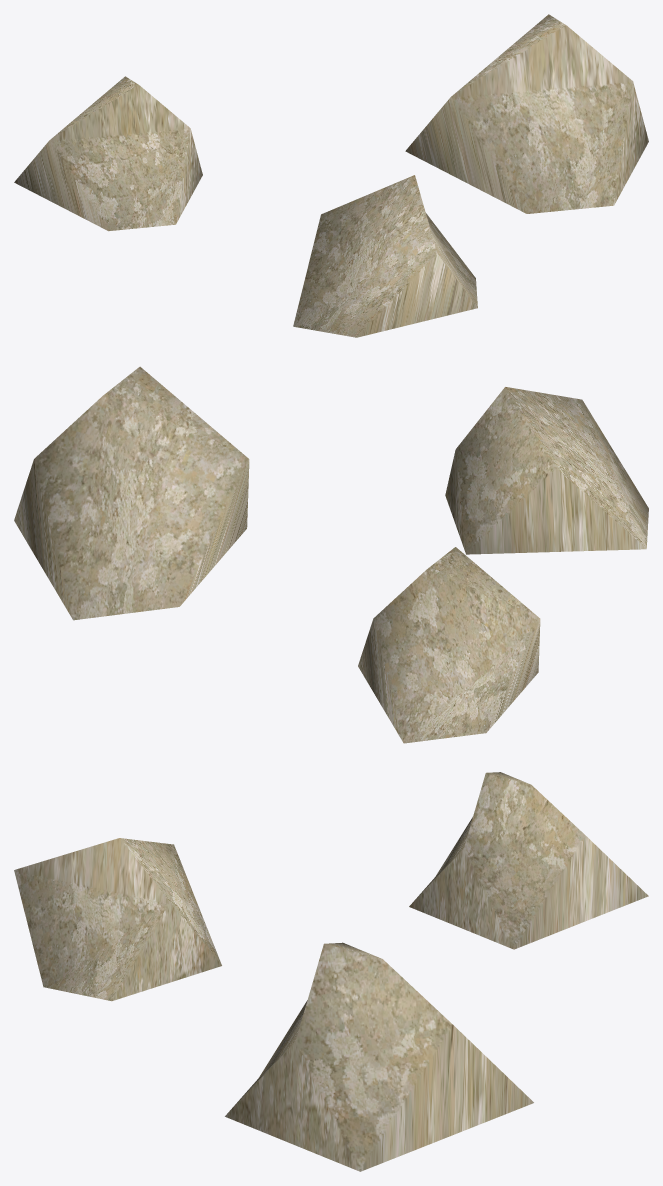
File: rock_small_pile_a1_l1.fbx
The picture shows the model from 3 angles, top to bottom: view 1: azimuth 30°, elevation 25°; view 2: azimuth 150°, elevation 25°; view 3: azimuth 270°, elevation 25°; orthographic projection. The views are drawn at different scales.
Visible parts, largest first — view 1: mesh_node; view 2: mesh_node; view 3: mesh_node.
Part boxes in pixels (<box>): mesh_node: <box>14,14,648,337</box>; mesh_node: <box>14,366,648,743</box>; mesh_node: <box>14,772,648,1171</box>.
Bounding box in the file's own units: 1.3 × 0.3568 × 1.16.
